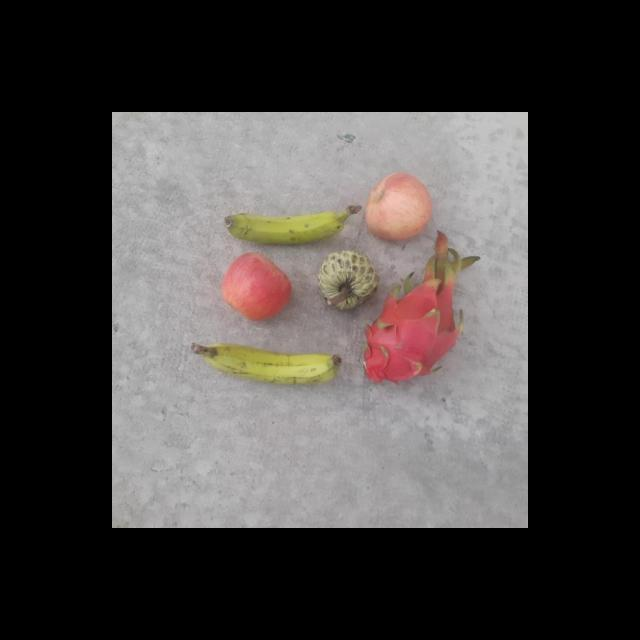Sakya fruit: (314, 251, 376, 310)
apple: (216, 248, 292, 324), (358, 169, 432, 243)
banana: (204, 335, 344, 388), (220, 206, 352, 247)
pitaya: (359, 279, 464, 386)
